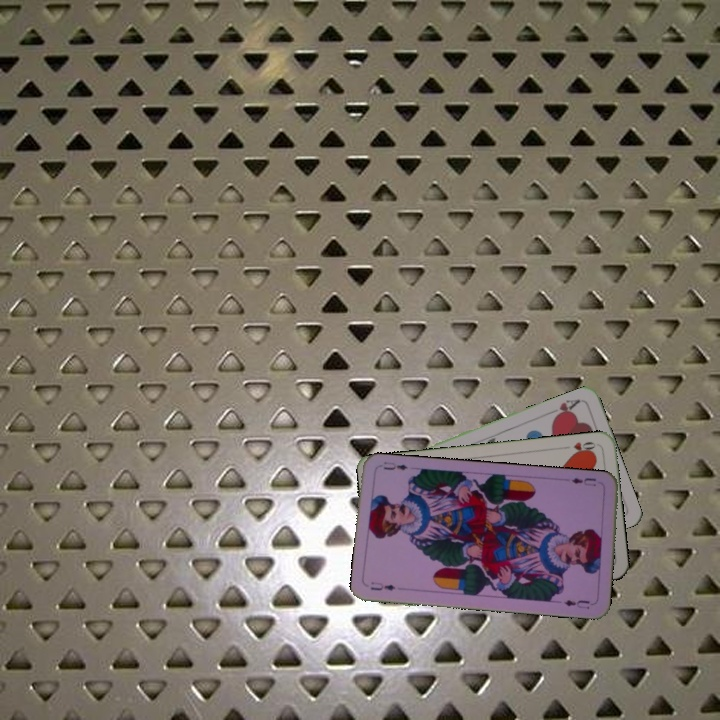EU: (567, 473, 599, 489), (367, 578, 398, 593)
HA: (545, 395, 583, 422)
HO: (559, 438, 598, 457)
